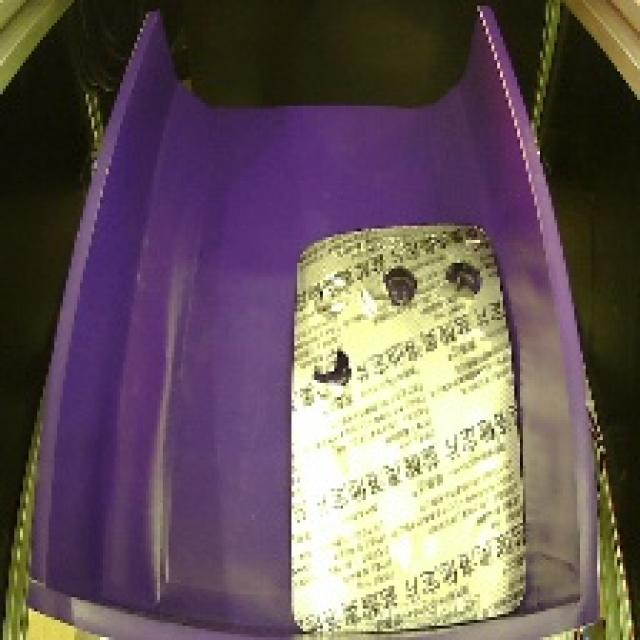med_plate: (282, 210, 535, 640)
